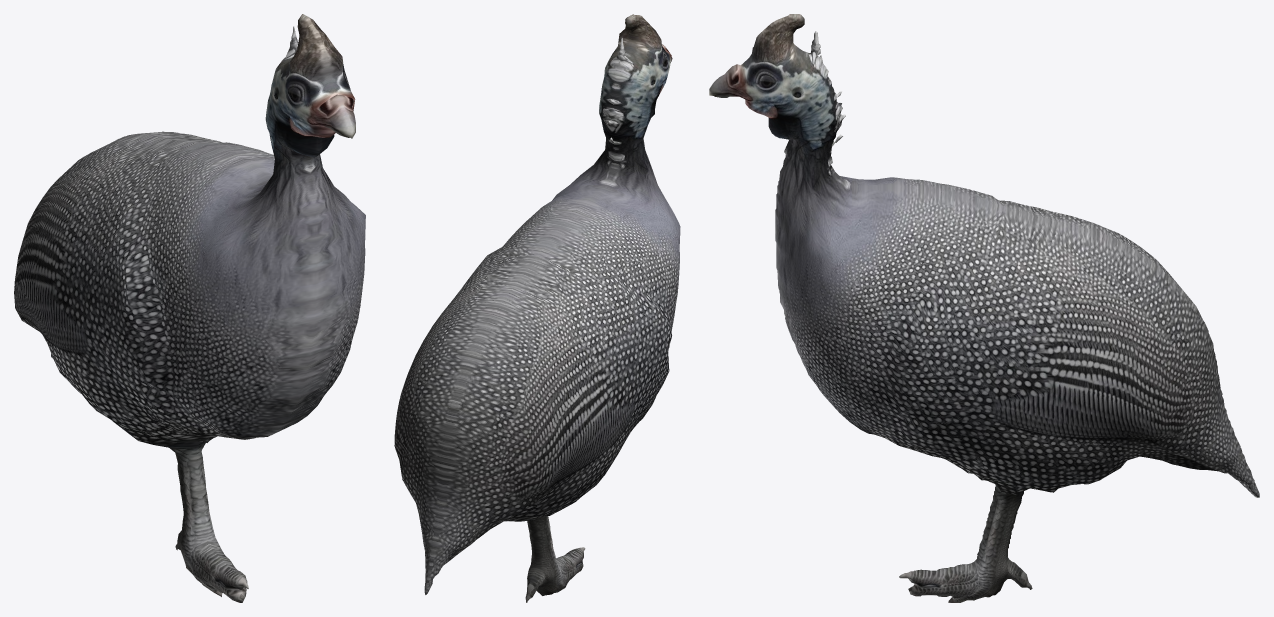
The model's file is pintade.glb.
3 renders of one model, left to right at view 1: azimuth 30°, elevation 25°; view 2: azimuth 150°, elevation 25°; view 3: azimuth 270°, elevation 25°, orthographic. The views are drawn at different scales.
Parts seen in each view (by area): view 1: pintade; view 2: pintade; view 3: pintade.
Boxes of the visible parts, left/top/right/bottom form: pintade: left=14, top=14, right=365, bottom=602; pintade: left=394, top=14, right=680, bottom=602; pintade: left=709, top=14, right=1259, bottom=602.
Size of the model in its own units: 0.1667 by 0.45 by 0.3809.
1 material, 1 textured.
